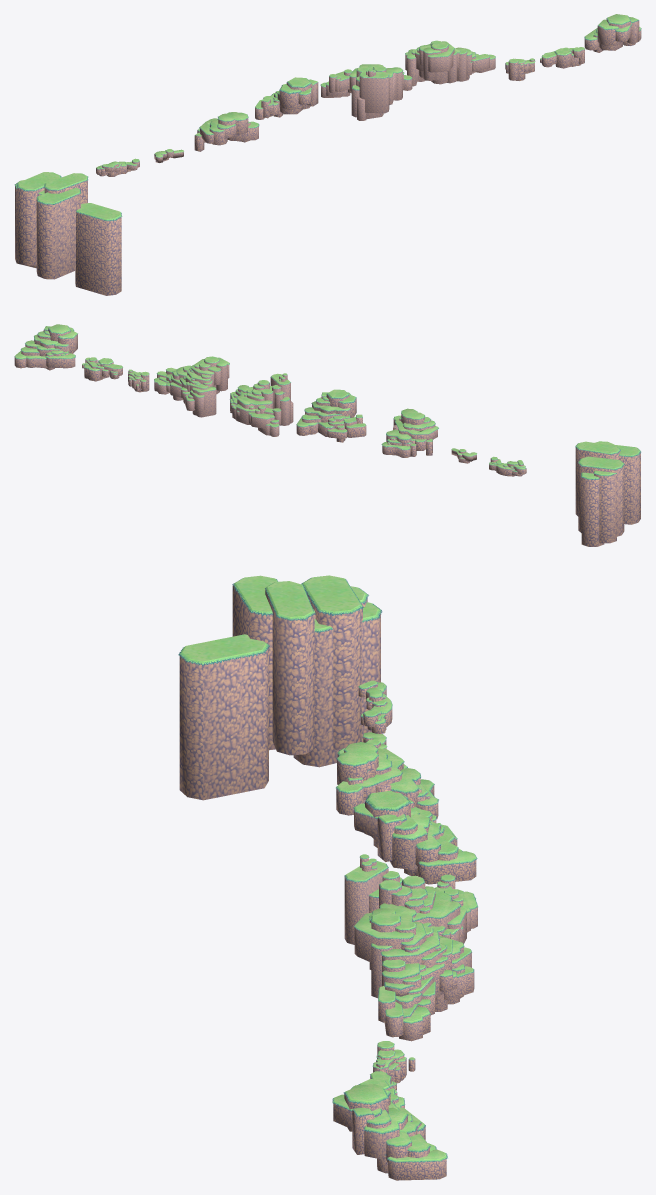
File: Rock_Modules.fbx
The picture shows the model from 3 angles, top to bottom: view 1: azimuth 30°, elevation 25°; view 2: azimuth 150°, elevation 25°; view 3: azimuth 270°, elevation 25°; orthographic projection. The views are drawn at different scales.
Parts seen in each view (by area): view 1: Module10_Side, Module5_Side, Module4_Side, Module10_Upper_and_Edge, Module6_Side, Module1_Side, Module7_Side, Module5_Upper_and_Edge, Module4_Upper_and_Edge, Module7_Upper_and_Edge, Module6_Upper_and_Edge, Module1_Upper_and_Edge (+2 smaller); view 2: Module10_Side, Module4_Side, Module5_Side, Module6_Side, Module4_Upper_and_Edge, Module1_Side, Module10_Upper_and_Edge, Module6_Upper_and_Edge, Module5_Upper_and_Edge, Module7_Side, Module1_Upper_and_Edge, Module7_Upper_and_Edge (+3 smaller); view 3: Module10_Side, Module10_Upper_and_Edge, Module4_Side, Module4_Upper_and_Edge, Module6_Side, Module1_Side, Module5_Upper_and_Edge, Module5_Side, Module1_Upper_and_Edge, Module6_Upper_and_Edge, Module7_Upper_and_Edge, Module7_Side.
Part boxes in pixels (left/top/right/bottom): Module10_Side: left=15, top=180, right=121, bottom=295; Module5_Side: left=321, top=70, right=412, bottom=120; Module4_Side: left=405, top=44, right=495, bottom=86; Module10_Upper_and_Edge: left=14, top=172, right=122, bottom=221; Module6_Side: left=255, top=82, right=318, bottom=119; Module1_Side: left=584, top=19, right=641, bottom=52; Module7_Side: left=194, top=118, right=258, bottom=151; Module5_Upper_and_Edge: left=320, top=64, right=412, bottom=90; Module4_Upper_and_Edge: left=405, top=40, right=495, bottom=62; Module7_Upper_and_Edge: left=195, top=112, right=259, bottom=136; Module6_Upper_and_Edge: left=255, top=77, right=317, bottom=109; Module1_Upper_and_Edge: left=584, top=14, right=641, bottom=40; Module10_Side: left=575, top=447, right=640, bottom=546; Module4_Side: left=154, top=360, right=229, bottom=417; Module5_Side: left=230, top=375, right=293, bottom=436; Module6_Side: left=296, top=394, right=366, bottom=442; Module4_Upper_and_Edge: left=154, top=356, right=229, bottom=401; Module1_Side: left=14, top=328, right=77, bottom=370; Module10_Upper_and_Edge: left=575, top=441, right=641, bottom=479; Module6_Upper_and_Edge: left=296, top=389, right=366, bottom=432; Module5_Upper_and_Edge: left=229, top=373, right=290, bottom=427; Module7_Side: left=382, top=414, right=437, bottom=457; Module1_Upper_and_Edge: left=14, top=324, right=77, bottom=359; Module7_Upper_and_Edge: left=381, top=408, right=438, bottom=450; Module10_Side: left=179, top=585, right=380, bottom=800; Module10_Upper_and_Edge: left=178, top=575, right=382, bottom=665; Module4_Side: left=354, top=919, right=474, bottom=1041; Module4_Upper_and_Edge: left=353, top=908, right=474, bottom=1023; Module6_Side: left=354, top=799, right=476, bottom=884; Module1_Side: left=333, top=1093, right=446, bottom=1180; Module5_Upper_and_Edge: left=344, top=854, right=477, bottom=935; Module5_Side: left=344, top=858, right=477, bottom=944; Module1_Upper_and_Edge: left=332, top=1084, right=447, bottom=1162; Module6_Upper_and_Edge: left=353, top=790, right=477, bottom=866; Module7_Upper_and_Edge: left=336, top=742, right=438, bottom=806; Module7_Side: left=336, top=750, right=438, bottom=819.
Bounding box in the file's own units: 81316 × 13915 × 18223.
2 materials, 2 textured.
